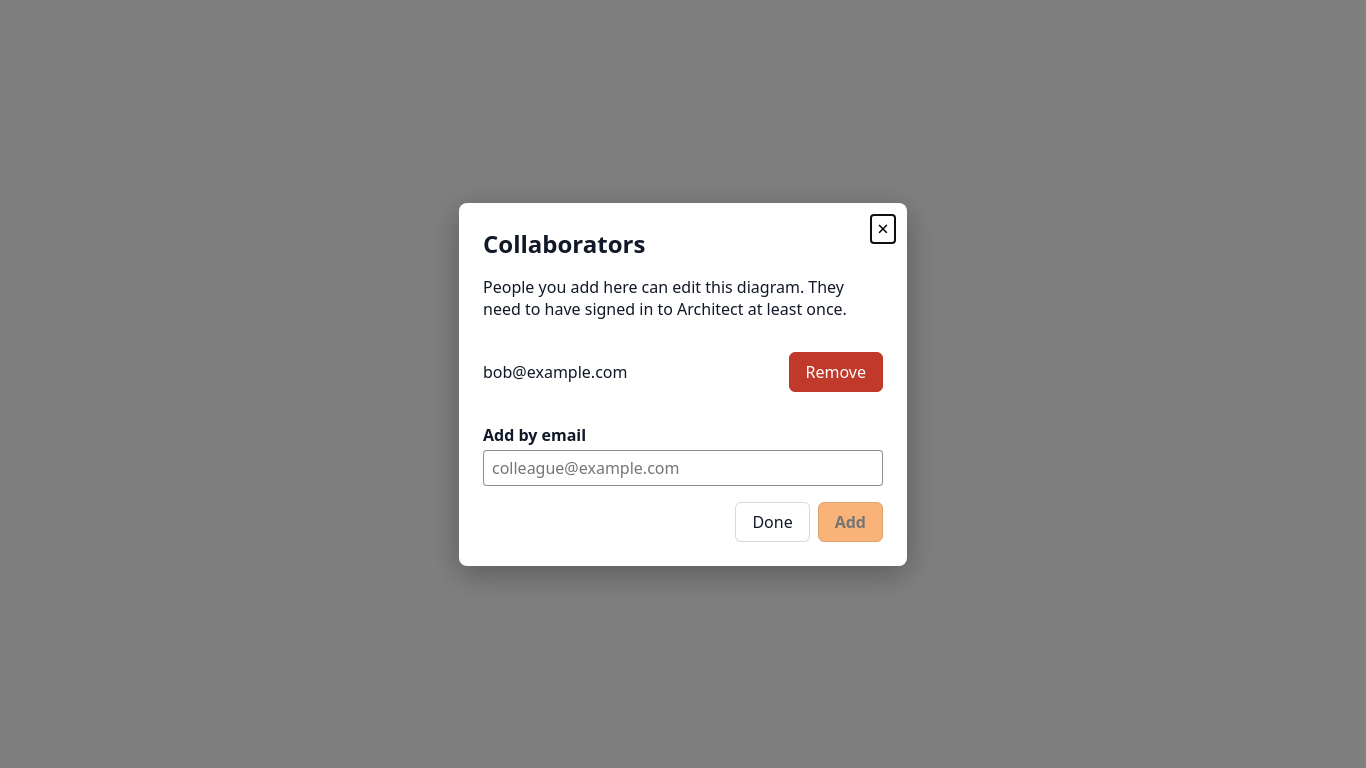
Test case: reports a failed removal that carried no message
Click the button "Remove" at (836, 372), box [788, 352, 883, 392]
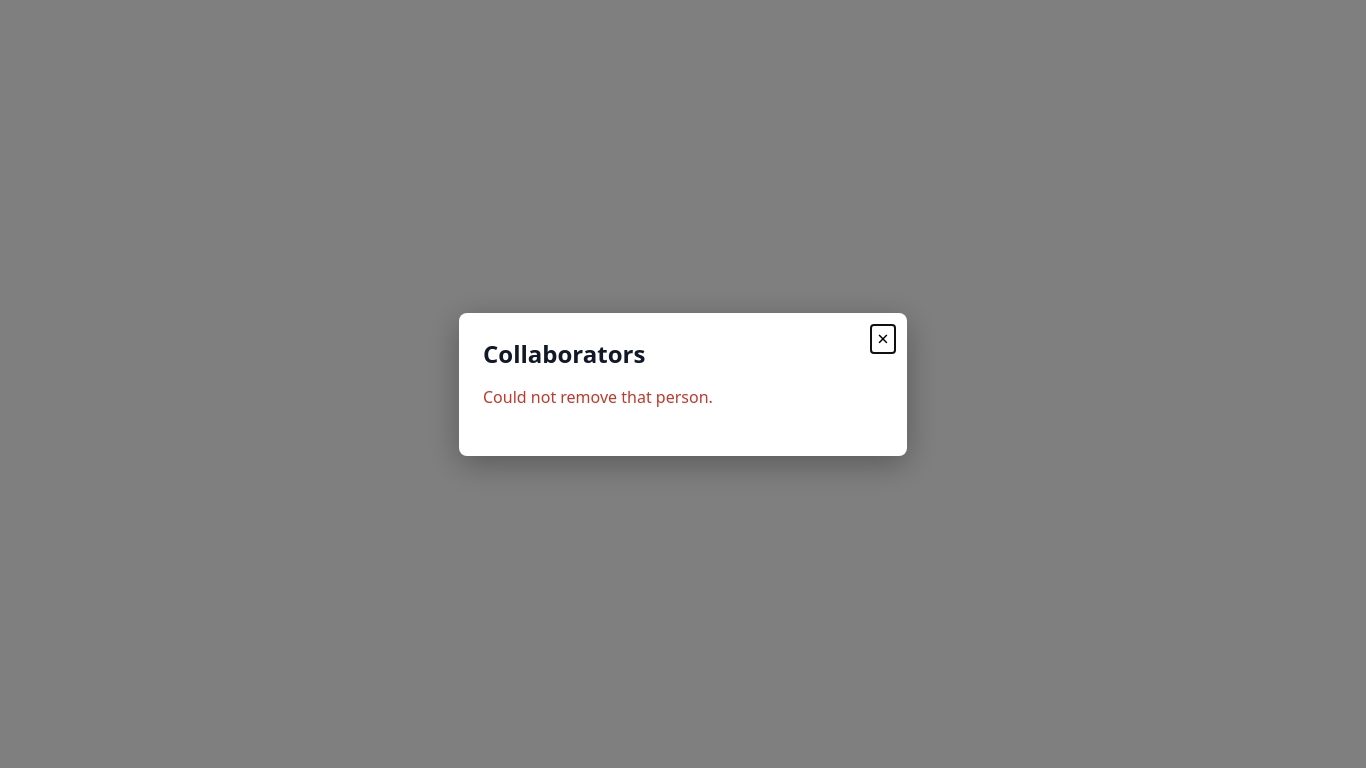
Result: the message reads "Could not remove that person." at [483, 386, 713, 408]
